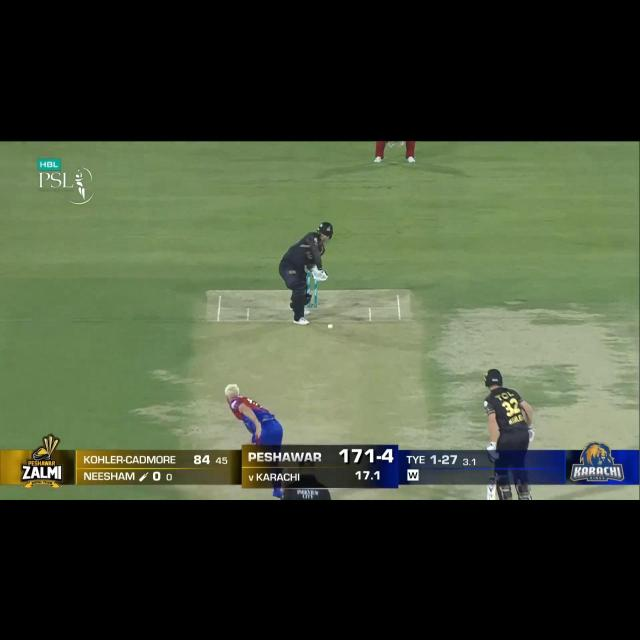toe: (485, 485, 500, 498)
